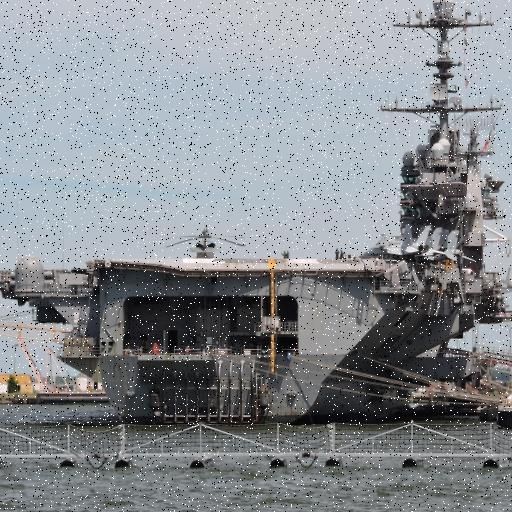Portanaves: (1, 1, 512, 427)
